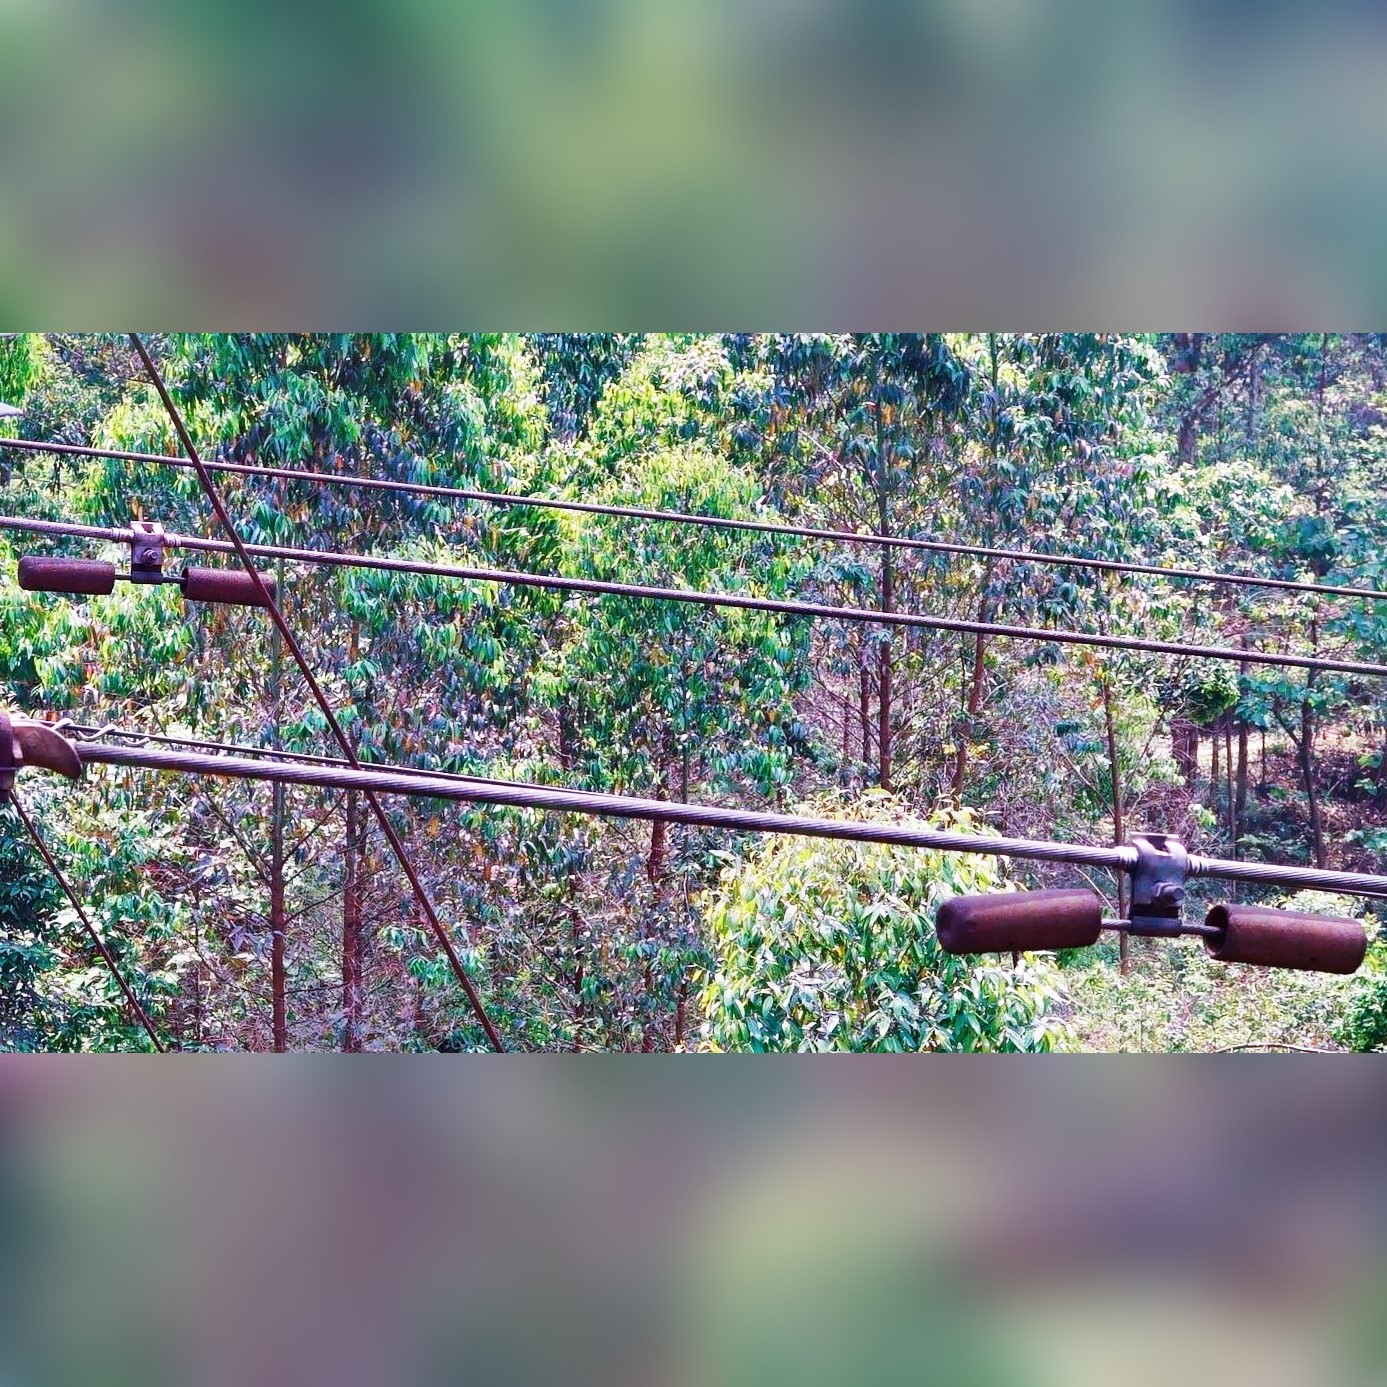Shockproof hammer: (917, 819, 1374, 995), (9, 511, 292, 626)
